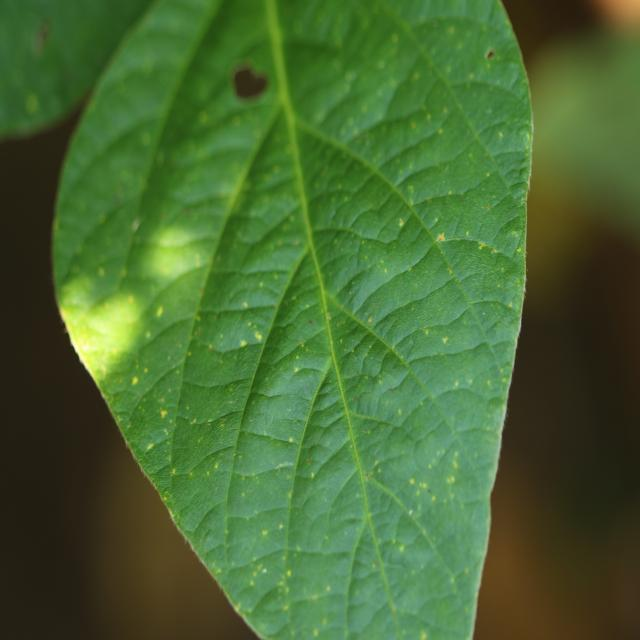Soybean: (0, 0, 534, 640)
downey_mildew: (98, 152, 275, 445), (217, 260, 349, 613), (355, 367, 497, 565), (68, 1, 208, 176), (194, 178, 318, 345), (155, 90, 277, 238), (319, 176, 437, 326), (357, 246, 500, 368), (294, 9, 423, 142), (66, 164, 179, 308), (252, 498, 360, 635), (178, 2, 284, 135), (389, 104, 519, 211), (402, 10, 523, 124), (316, 465, 399, 630), (379, 332, 508, 427), (242, 322, 348, 436), (357, 155, 460, 272), (299, 140, 412, 245), (276, 393, 371, 505), (115, 307, 215, 412), (165, 403, 250, 509), (342, 107, 449, 183), (327, 324, 406, 414), (433, 236, 521, 314), (409, 383, 502, 455), (215, 421, 315, 486), (222, 535, 295, 624), (294, 227, 376, 305), (185, 303, 289, 364), (188, 267, 297, 323), (416, 193, 517, 253), (220, 464, 307, 529), (173, 337, 271, 394), (241, 392, 323, 450), (281, 39, 354, 101), (290, 1, 373, 53), (131, 416, 188, 487)
